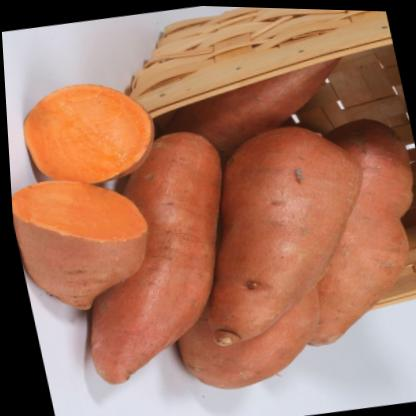sweetpotato: (33, 119, 275, 393), (164, 113, 405, 355), (8, 163, 159, 319), (3, 69, 167, 197)
